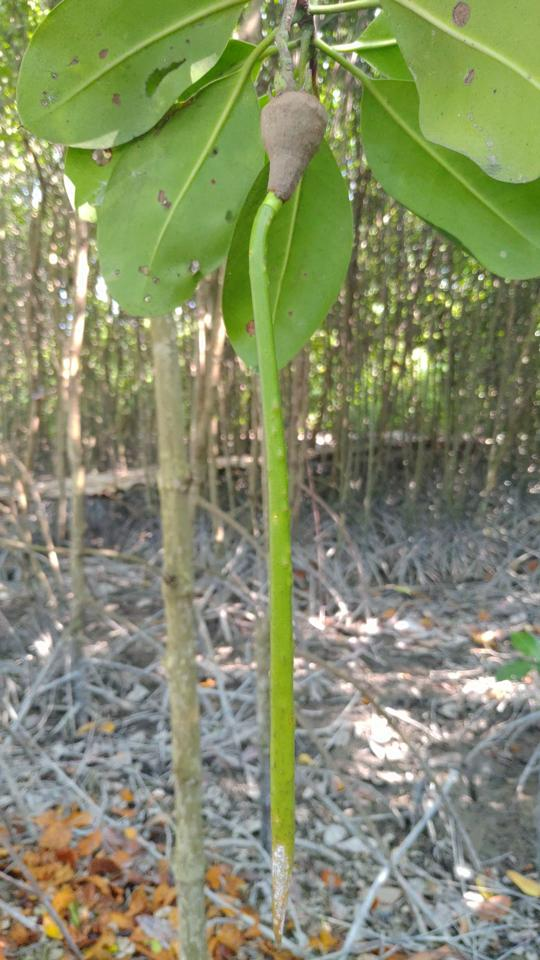setengah matang: (235, 63, 341, 947)
